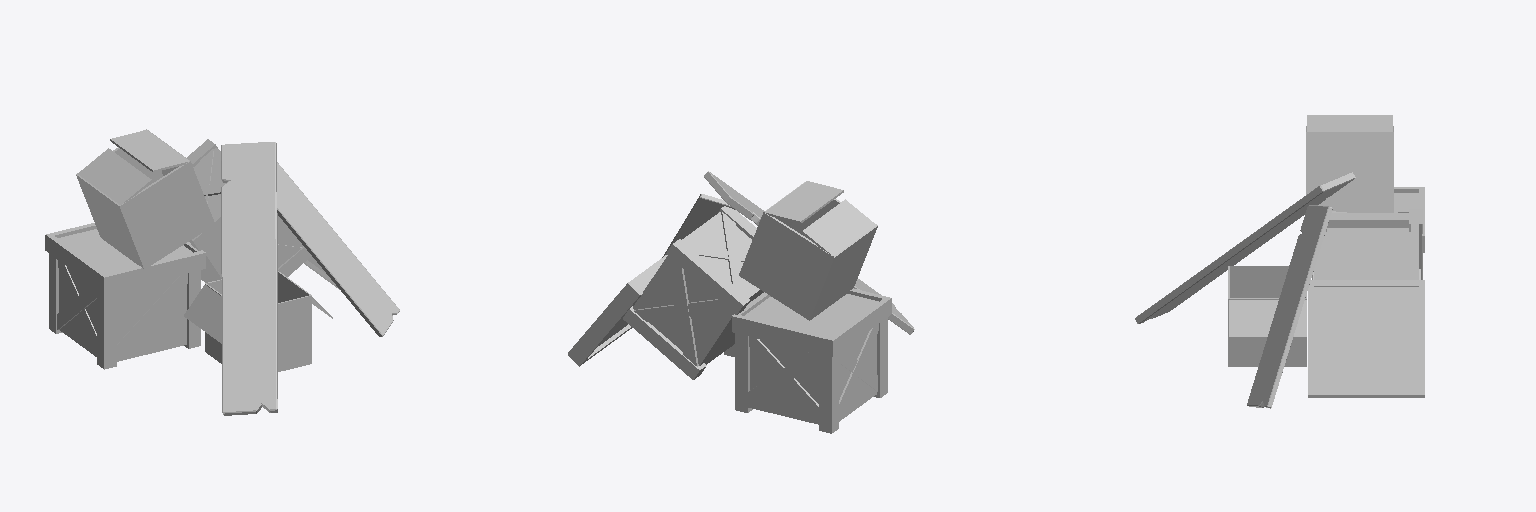
File: rubble.obj
3 views of the same model, side by side, from view 1: azimuth 30°, elevation 25°; view 2: azimuth 150°, elevation 25°; view 3: azimuth 270°, elevation 25° (orthographic).
Visible parts, largest first — view 1: Rubble1; view 2: Rubble1; view 3: Rubble1.
Boxes of the visible parts, <box> form: Rubble1: <box>45,129,399,415</box>; Rubble1: <box>568,171,914,433</box>; Rubble1: <box>1135,115,1424,408</box>.
Size of the model in its own units: 187 by 127 by 170.